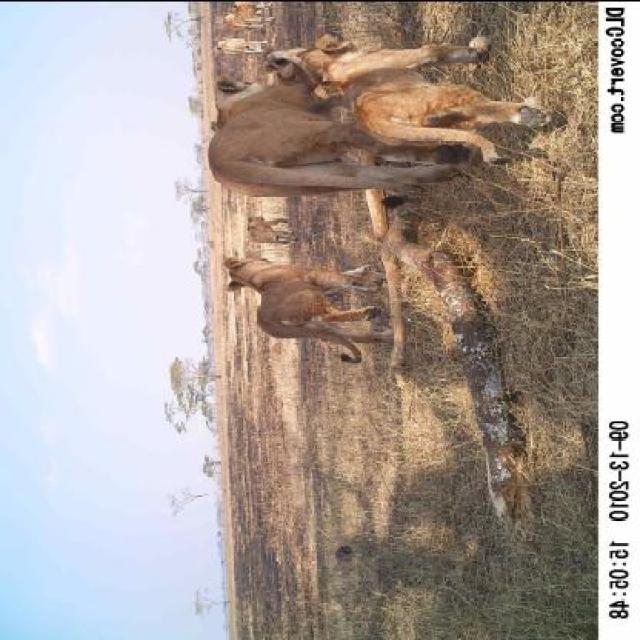Lion: (168, 63, 438, 214), (283, 29, 545, 163), (211, 251, 417, 386)
